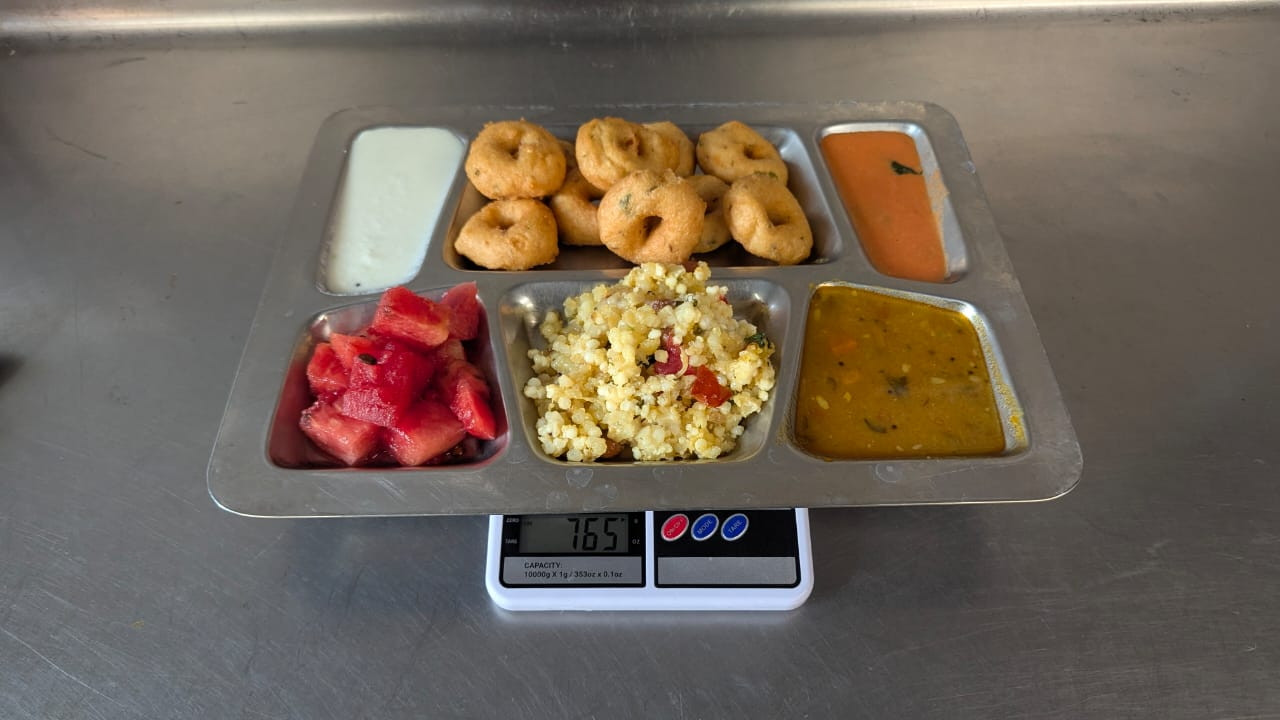bowl: (452, 110, 801, 275), (789, 273, 1022, 491), (504, 284, 762, 470), (270, 297, 493, 489), (803, 107, 979, 295), (318, 118, 439, 290)
